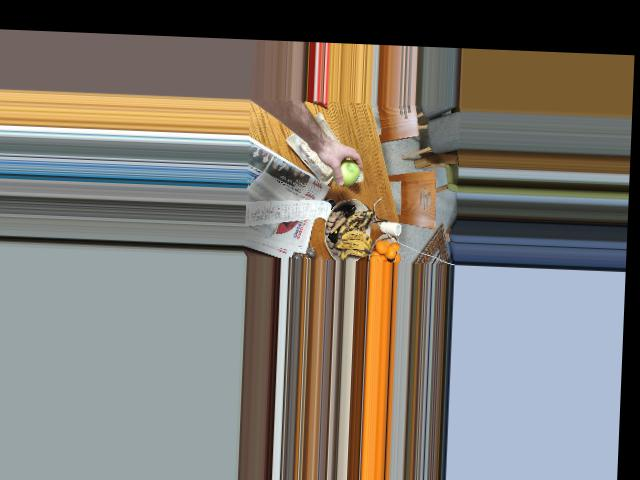apple: (332, 158, 362, 186)
